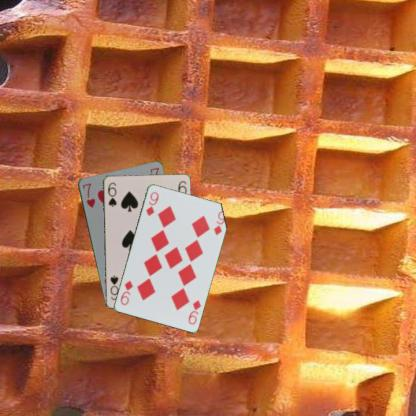6s: (105, 180, 117, 208)
7h: (80, 180, 96, 209)
9d: (144, 189, 160, 217), (186, 297, 202, 325)
